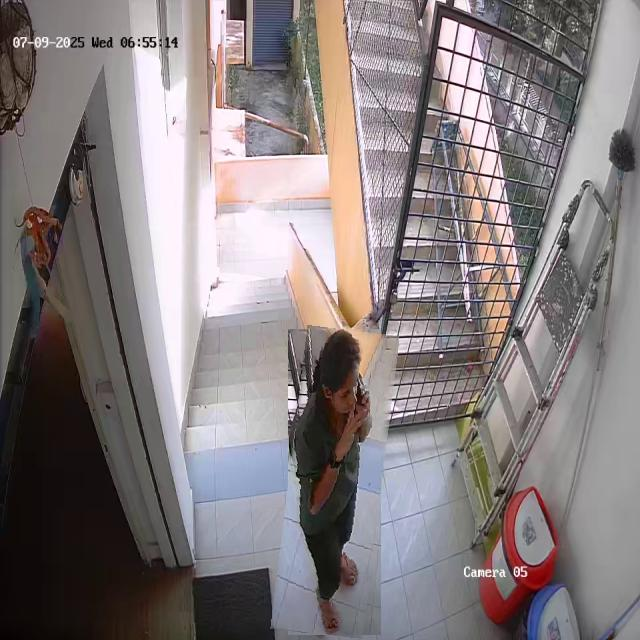person: (279, 327, 390, 638)
